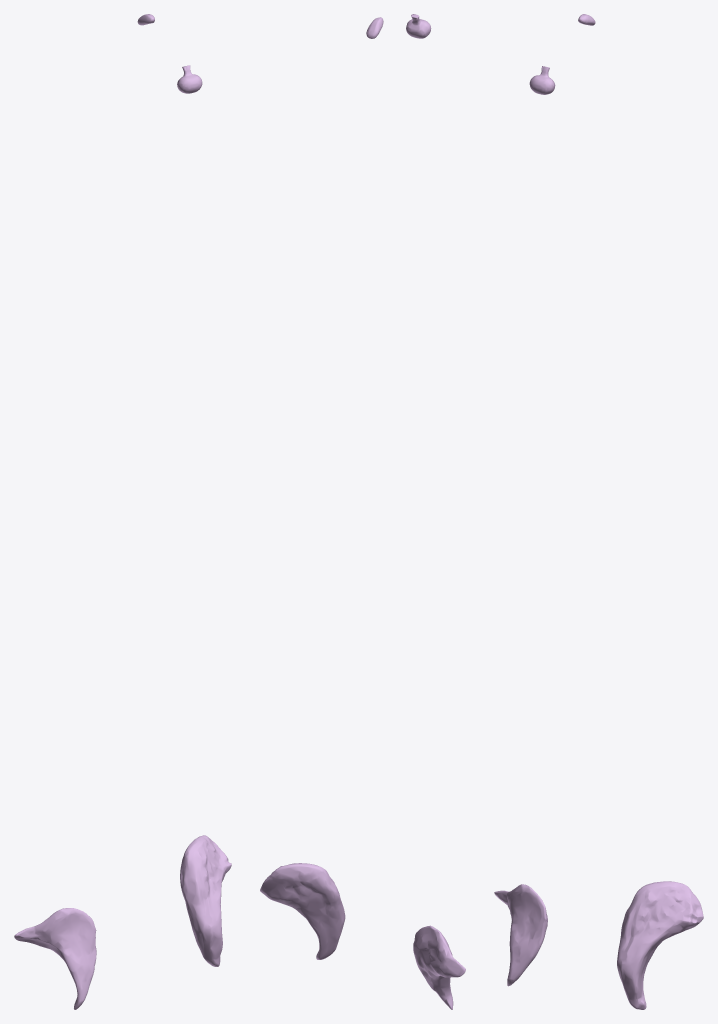
The model's file is endocrino.glb.
The picture shows the model from 3 angles, left to right: view 1: azimuth 30°, elevation 25°; view 2: azimuth 150°, elevation 25°; view 3: azimuth 330°, elevation 25°; orthographic projection.
Visible parts, largest first — view 1: FMA15630, FMA15629; view 2: FMA15630, FMA15629; view 3: FMA15630, FMA15629, FMA13889.
Boxes of the visible parts, box(x1,y1,x2,y2) form: FMA15630: box(180, 835, 231, 966); FMA15629: box(14, 908, 96, 1009); FMA15630: box(260, 863, 345, 959); FMA15629: box(413, 925, 465, 1009); FMA15630: box(617, 881, 703, 1009); FMA15629: box(494, 884, 547, 986); FMA13889: box(529, 66, 555, 94).
Bounding box in the file's own units: 0.1084 × 0.485 × 0.0636.
